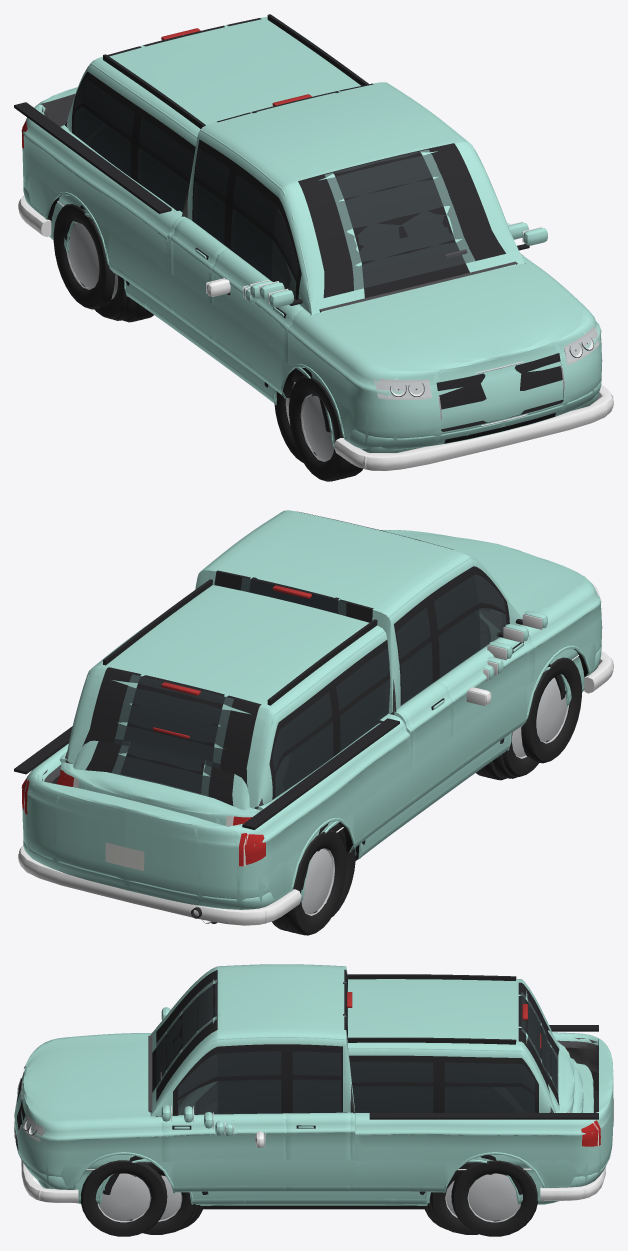
File: parked.glb
The picture shows the model from 3 angles, top to bottom: view 1: azimuth 30°, elevation 25°; view 2: azimuth 150°, elevation 25°; view 3: azimuth 270°, elevation 25°; orthographic projection. The views are drawn at different scales.
Parts seen in each view (by area): view 1: pickup_body, pickup_gh, pickup_gh.001, pickup_body_L1, pickup_glass, suv_gh, pickup_trim, suv_glass, coupe_trim, suv_gh.001, pickup_glass_L1, suv_glass_L1 (+11 smaller); view 2: pickup_body, suv_gh, pickup_gh, suv_glass, pickup_body_L1, suv_gh.001, pickup_glass, pickup_trim, pickup_gh.001, coupe_trim, pickup_glass_L1, suv_glass_L1 (+16 smaller); view 3: pickup_body, pickup_body_L1, suv_gh, pickup_gh, pickup_glass, suv_glass, pickup_gh.001, suv_gh.001, pickup_glass_L1, pickup_trim, suv_glass_L1, pickup_wheel_FL_mesh (+17 smaller).
Boxes of the visible parts, bbox=[...] form: pickup_body: bbox=[22, 87, 601, 449]; pickup_gh: bbox=[187, 82, 519, 311]; pickup_gh.001: bbox=[188, 84, 524, 314]; pickup_body_L1: bbox=[22, 87, 602, 449]; pickup_glass: bbox=[193, 148, 475, 299]; suv_gh: bbox=[67, 16, 360, 298]; pickup_trim: bbox=[14, 89, 600, 443]; suv_glass: bbox=[74, 79, 194, 212]; coupe_trim: bbox=[18, 195, 613, 470]; suv_gh.001: bbox=[70, 25, 326, 289]; pickup_glass_L1: bbox=[194, 182, 296, 299]; suv_glass_L1: bbox=[75, 107, 189, 211]; pickup_body: bbox=[22, 530, 601, 909]; suv_gh: bbox=[67, 585, 499, 808]; pickup_gh: bbox=[195, 510, 520, 713]; suv_glass: bbox=[113, 648, 390, 797]; pickup_body_L1: bbox=[26, 530, 602, 908]; suv_gh.001: bbox=[74, 592, 494, 804]; pickup_glass: bbox=[241, 575, 506, 704]; pickup_trim: bbox=[14, 577, 599, 918]; pickup_gh.001: bbox=[199, 512, 522, 709]; coupe_trim: bbox=[18, 651, 613, 925]; pickup_glass_L1: bbox=[400, 608, 505, 703]; suv_glass_L1: bbox=[275, 679, 390, 796]; pickup_body: bbox=[15, 1032, 613, 1192]; pickup_body_L1: bbox=[14, 1034, 611, 1191]; suv_gh: bbox=[178, 979, 555, 1115]; pickup_gh: bbox=[156, 964, 355, 1116]; pickup_glass: bbox=[156, 979, 347, 1114]; suv_glass: bbox=[200, 992, 547, 1114]; pickup_gh.001: bbox=[150, 966, 350, 1116]; suv_gh.001: bbox=[194, 979, 544, 1110]; pickup_glass_L1: bbox=[178, 1079, 341, 1115]; pickup_trim: bbox=[14, 990, 613, 1193]; suv_glass_L1: bbox=[203, 1086, 534, 1114]; pickup_wheel_FL_mesh: bbox=[80, 1160, 166, 1236].
Size of the model in its own units: 2.31 by 1.93 by 5.37.
